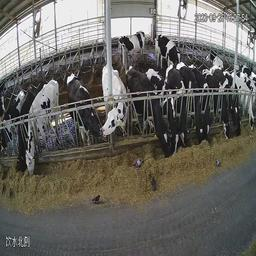cow: (125, 66, 169, 158), (25, 79, 59, 177), (146, 69, 179, 155), (65, 72, 102, 144), (100, 63, 129, 139), (177, 64, 205, 142), (163, 68, 190, 148), (203, 69, 233, 139), (213, 68, 242, 134), (190, 66, 212, 143), (0, 91, 25, 156), (15, 88, 34, 172), (234, 71, 254, 132), (155, 32, 181, 69), (118, 30, 146, 64), (211, 50, 224, 69)
